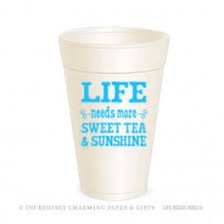paper_cup: (51, 18, 174, 207)
